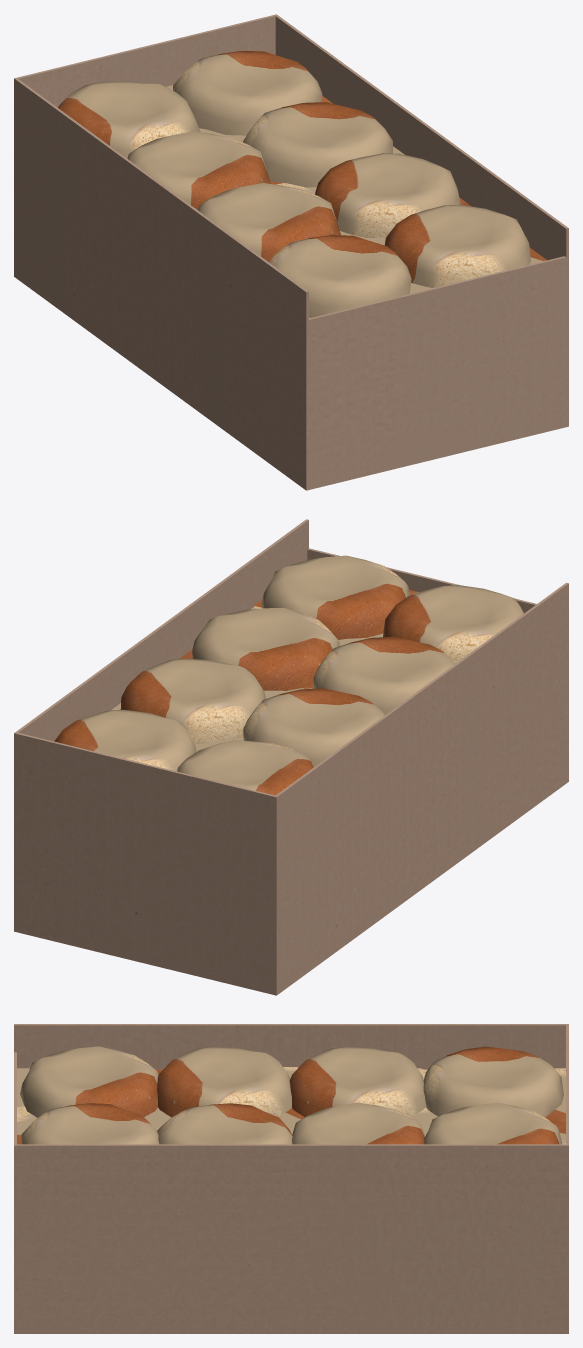
Rendered from Box_BunLower.fbx.
3 views of the same model, one above another, from view 1: azimuth 30°, elevation 25°; view 2: azimuth 150°, elevation 25°; view 3: azimuth 270°, elevation 25° (orthographic). The views are drawn at different scales.
Parts seen in each view (by area): view 1: Box_BunLower; view 2: Box_BunLower; view 3: Box_BunLower.
Boxes of the visible parts, x1,y1,x2,y2 form: Box_BunLower: (14,14,568,490); Box_BunLower: (14,519,568,995); Box_BunLower: (14,1024,568,1333).
Bounding box in the file's own units: 19.4 × 14 × 37.4.
